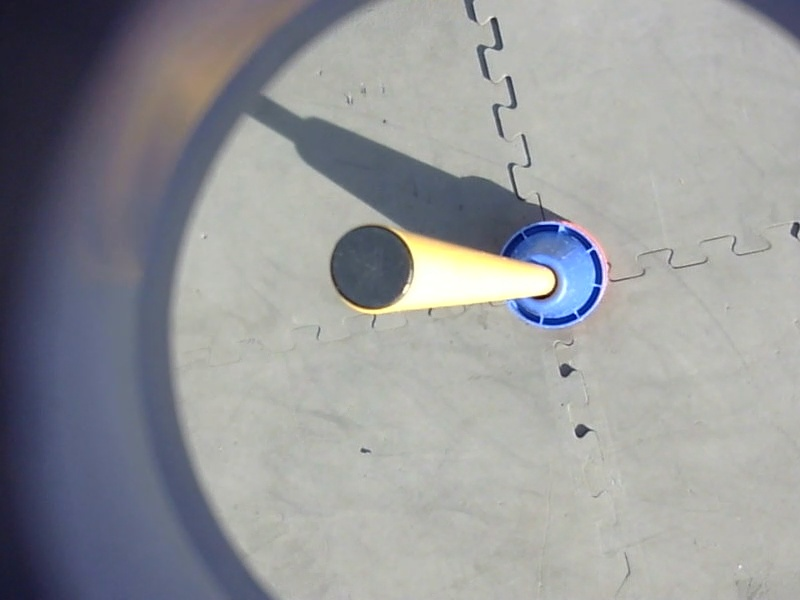tip: (321, 219, 422, 321)
